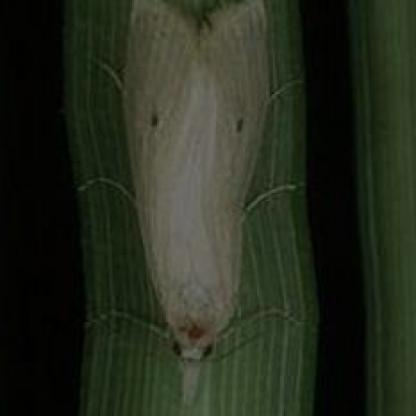stem-borer: (87, 0, 293, 408)
